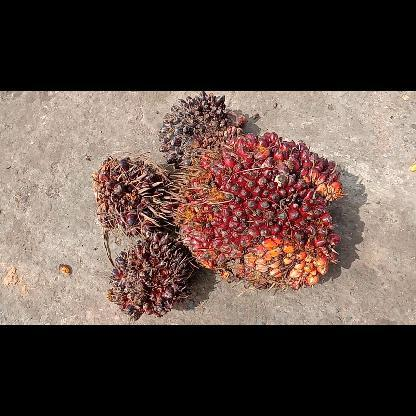TBS abnormal: (104, 230, 196, 322), (89, 152, 177, 238), (156, 91, 248, 171)
TBS masak: (169, 130, 347, 290)
